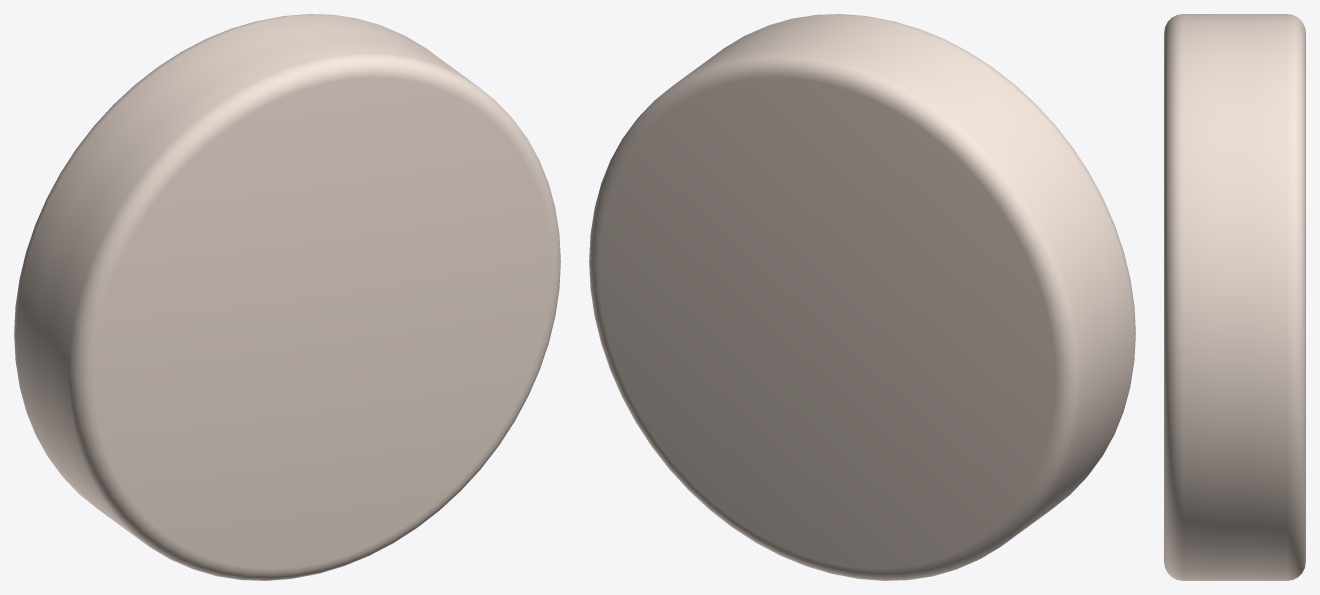
The model's file is head.dae.
3 renders of one model, left to right at view 1: azimuth 30°, elevation 25°; view 2: azimuth 150°, elevation 25°; view 3: azimuth 270°, elevation 25°, orthographic.
Visible parts, largest first — view 1: Cylinder; view 2: Cylinder; view 3: Cylinder.
Boxes of the visible parts, x1,y1,x2,y2 form: Cylinder: (14, 14, 560, 580); Cylinder: (589, 14, 1135, 580); Cylinder: (1164, 14, 1305, 580).
Bounding box in the file's own units: 120 × 120 × 30.
